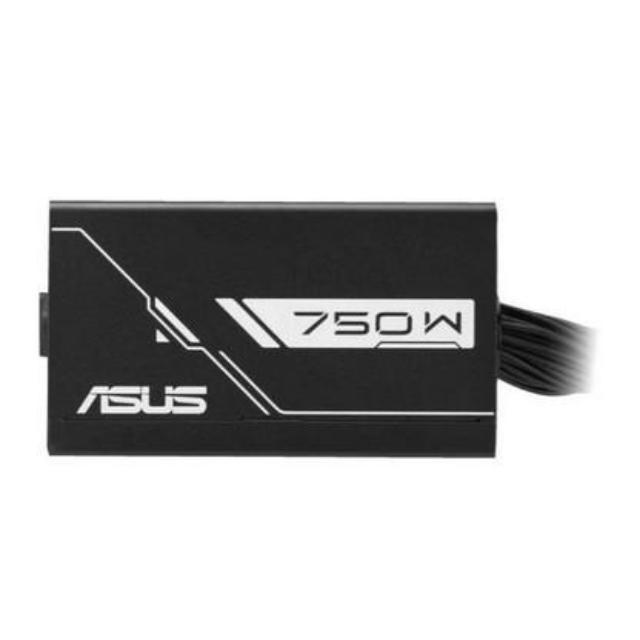PSU: (36, 191, 514, 469)
